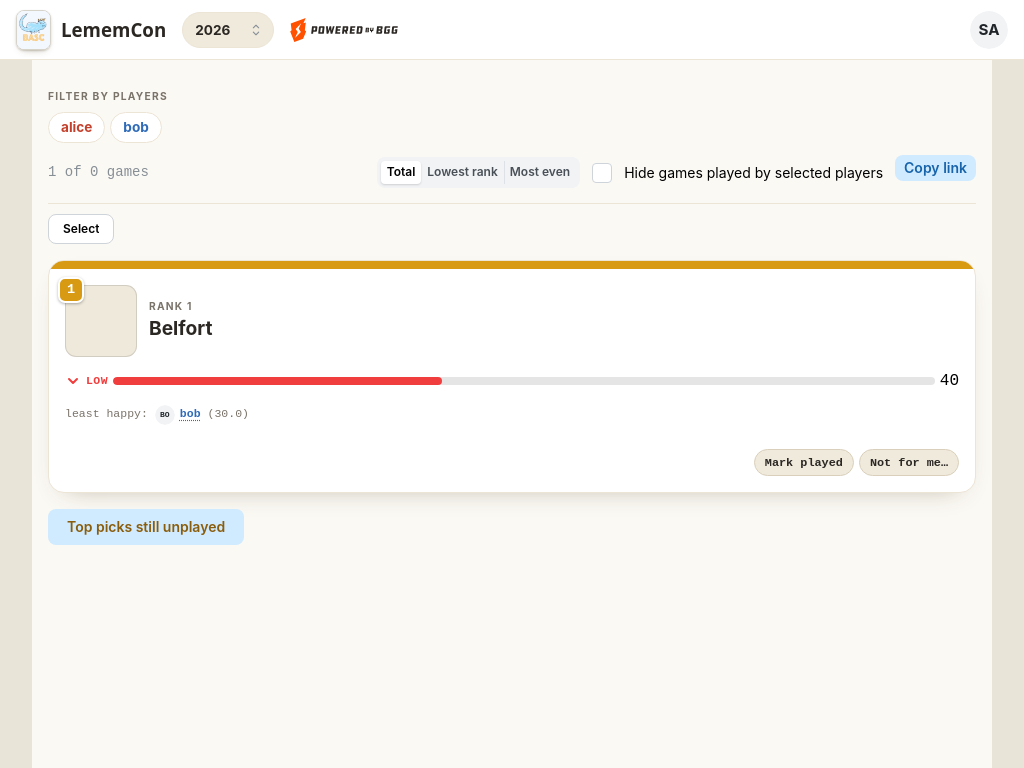
Test: Scoreboard › marking played › opens the dialog instead of marking straight away
This screenshot has width=1024, height=768.
Click the button with aria-label "Played:": (804, 463) [754,449,854,476]
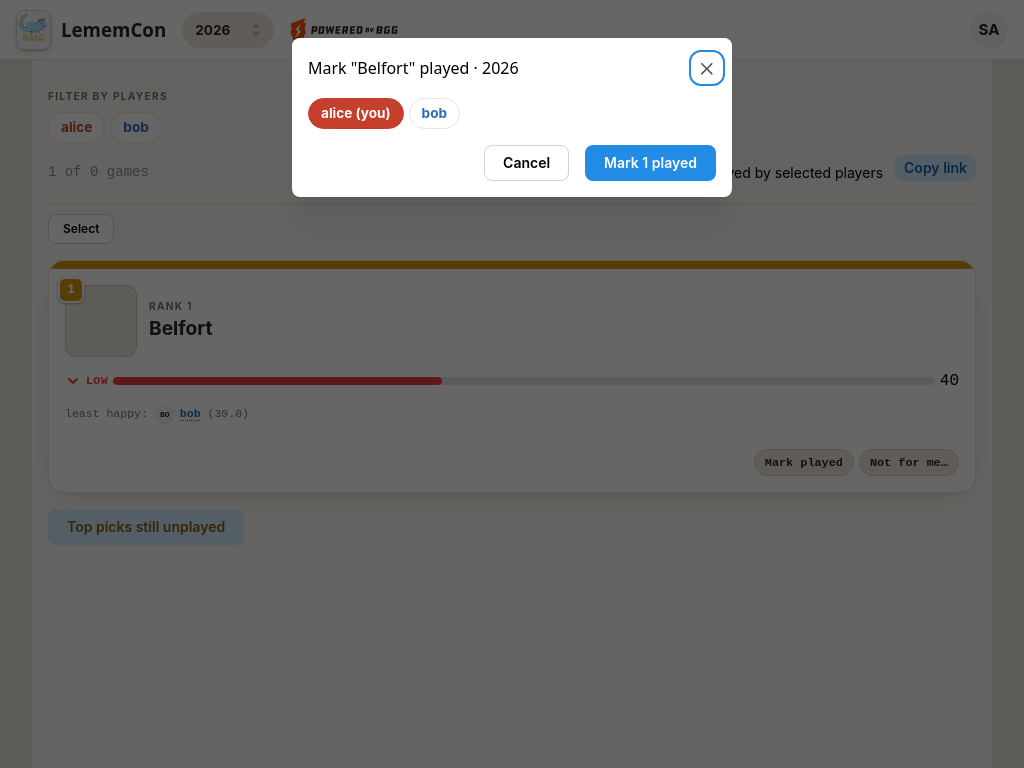
Result: the dialog "Mark \"Belfort\" played" is shown at [292,38,732,197]
